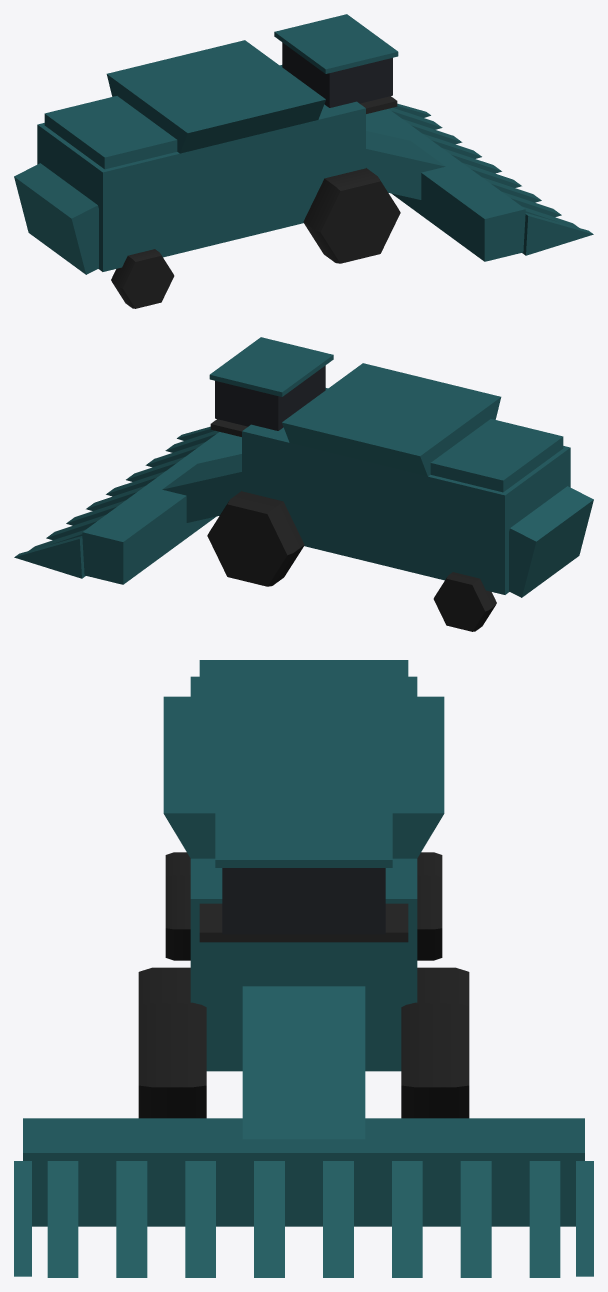
File: SM_Prop_farm_combine_3_LOD2.glb
3 views of the same model, one above another, from view 1: azimuth 30°, elevation 25°; view 2: azimuth 150°, elevation 25°; view 3: azimuth 270°, elevation 25° (orthographic). The views are drawn at different scales.
Parts seen in each view (by area): view 1: SM_Prop_farm_combine_3_LOD2; view 2: SM_Prop_farm_combine_3_LOD2; view 3: SM_Prop_farm_combine_3_LOD2.
Boxes of the visible parts, <box> form: SM_Prop_farm_combine_3_LOD2: <box>14,14,593,308</box>; SM_Prop_farm_combine_3_LOD2: <box>14,337,593,631</box>; SM_Prop_farm_combine_3_LOD2: <box>14,660,593,1277</box>.
Size of the model in its own units: 10.3 by 3.8 by 6.4.
